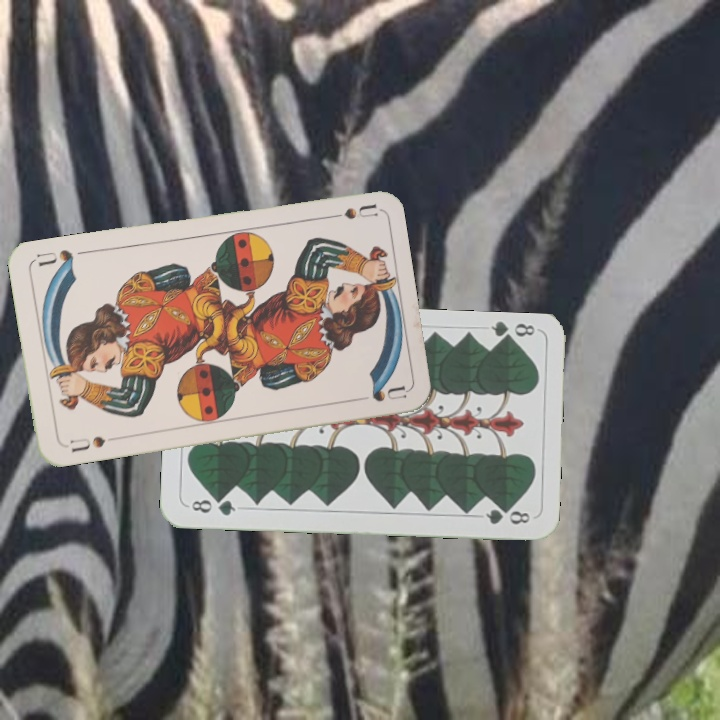G8: (487, 318, 540, 346), (187, 494, 238, 519)
SU: (319, 200, 378, 222), (65, 432, 120, 455)
